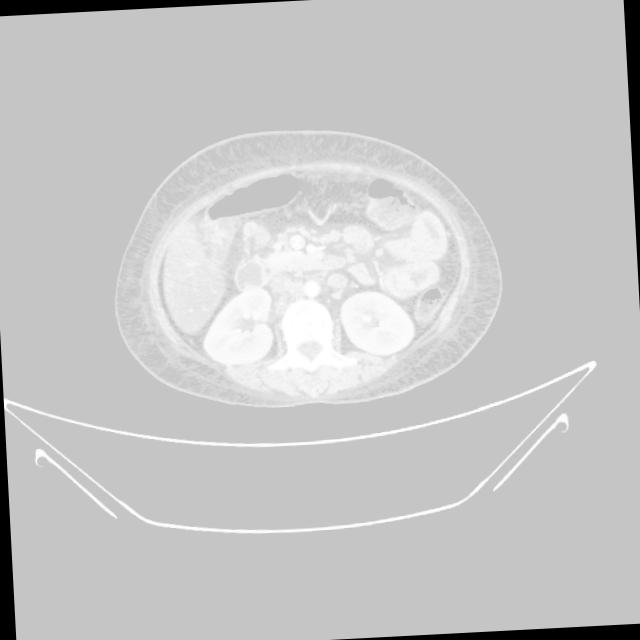NORMAL: (107, 118, 504, 405)
